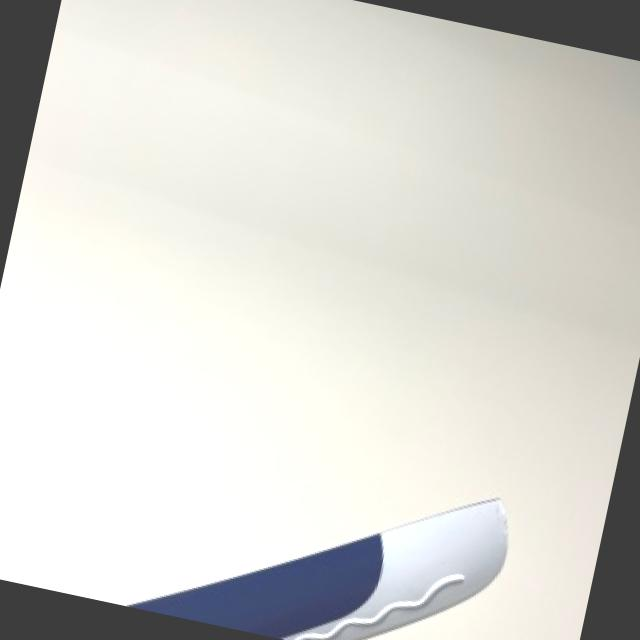healthy: (152, 499, 508, 640)
